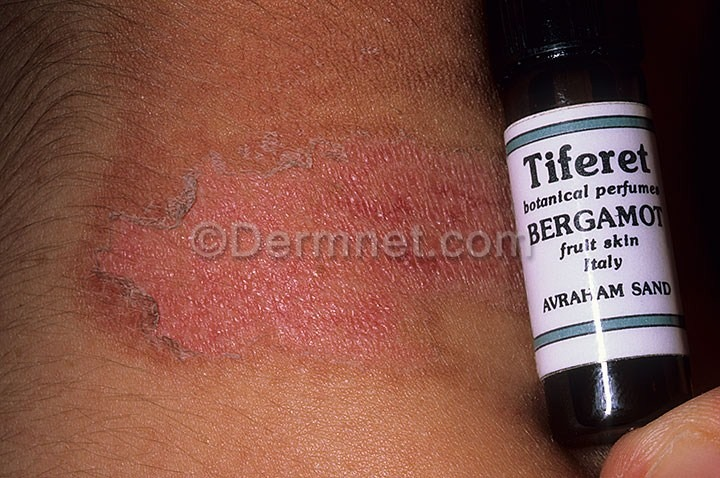Melasma: (79, 256, 506, 400), (102, 124, 501, 224), (179, 2, 467, 119)
